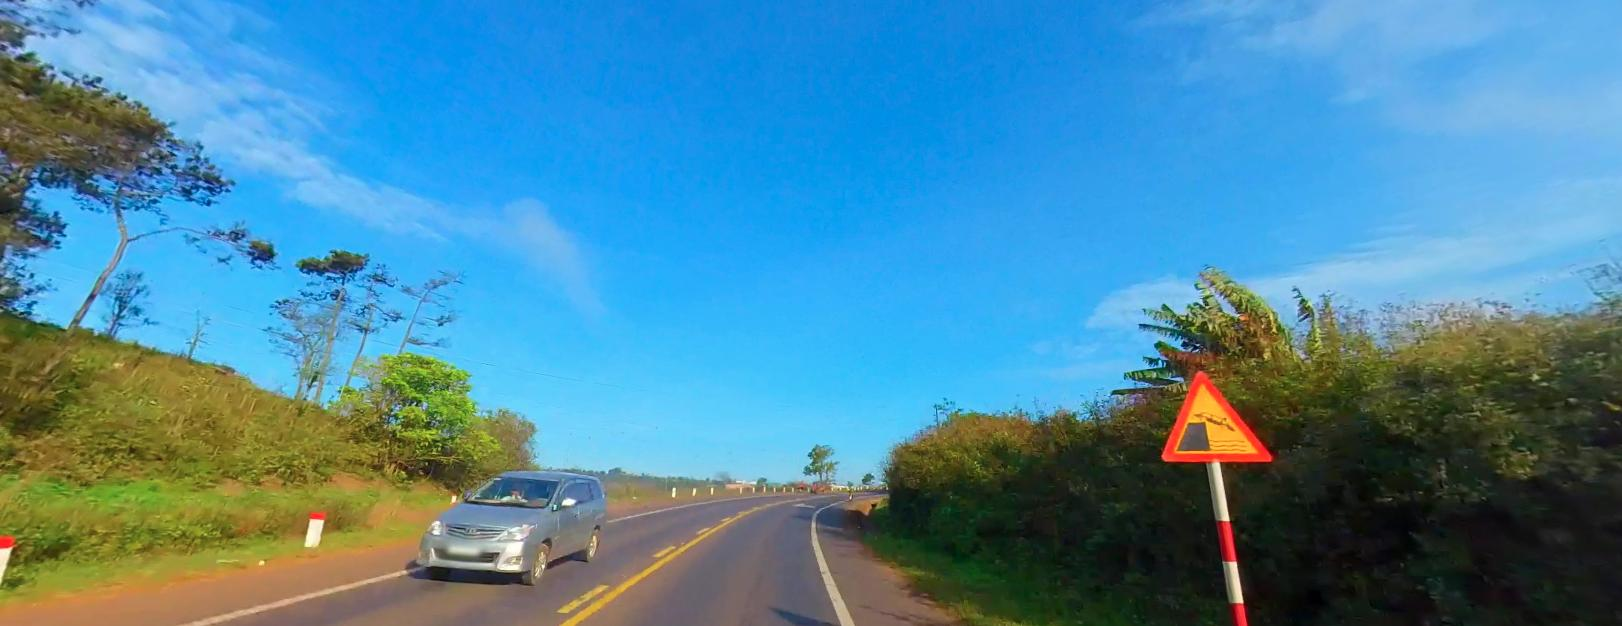Nguy hiem: (1132, 352, 1289, 487)
